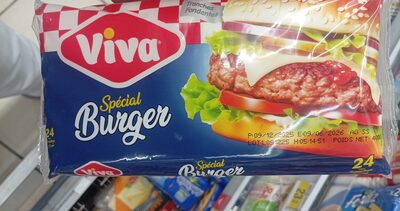special burger: (20, 11, 380, 200)
